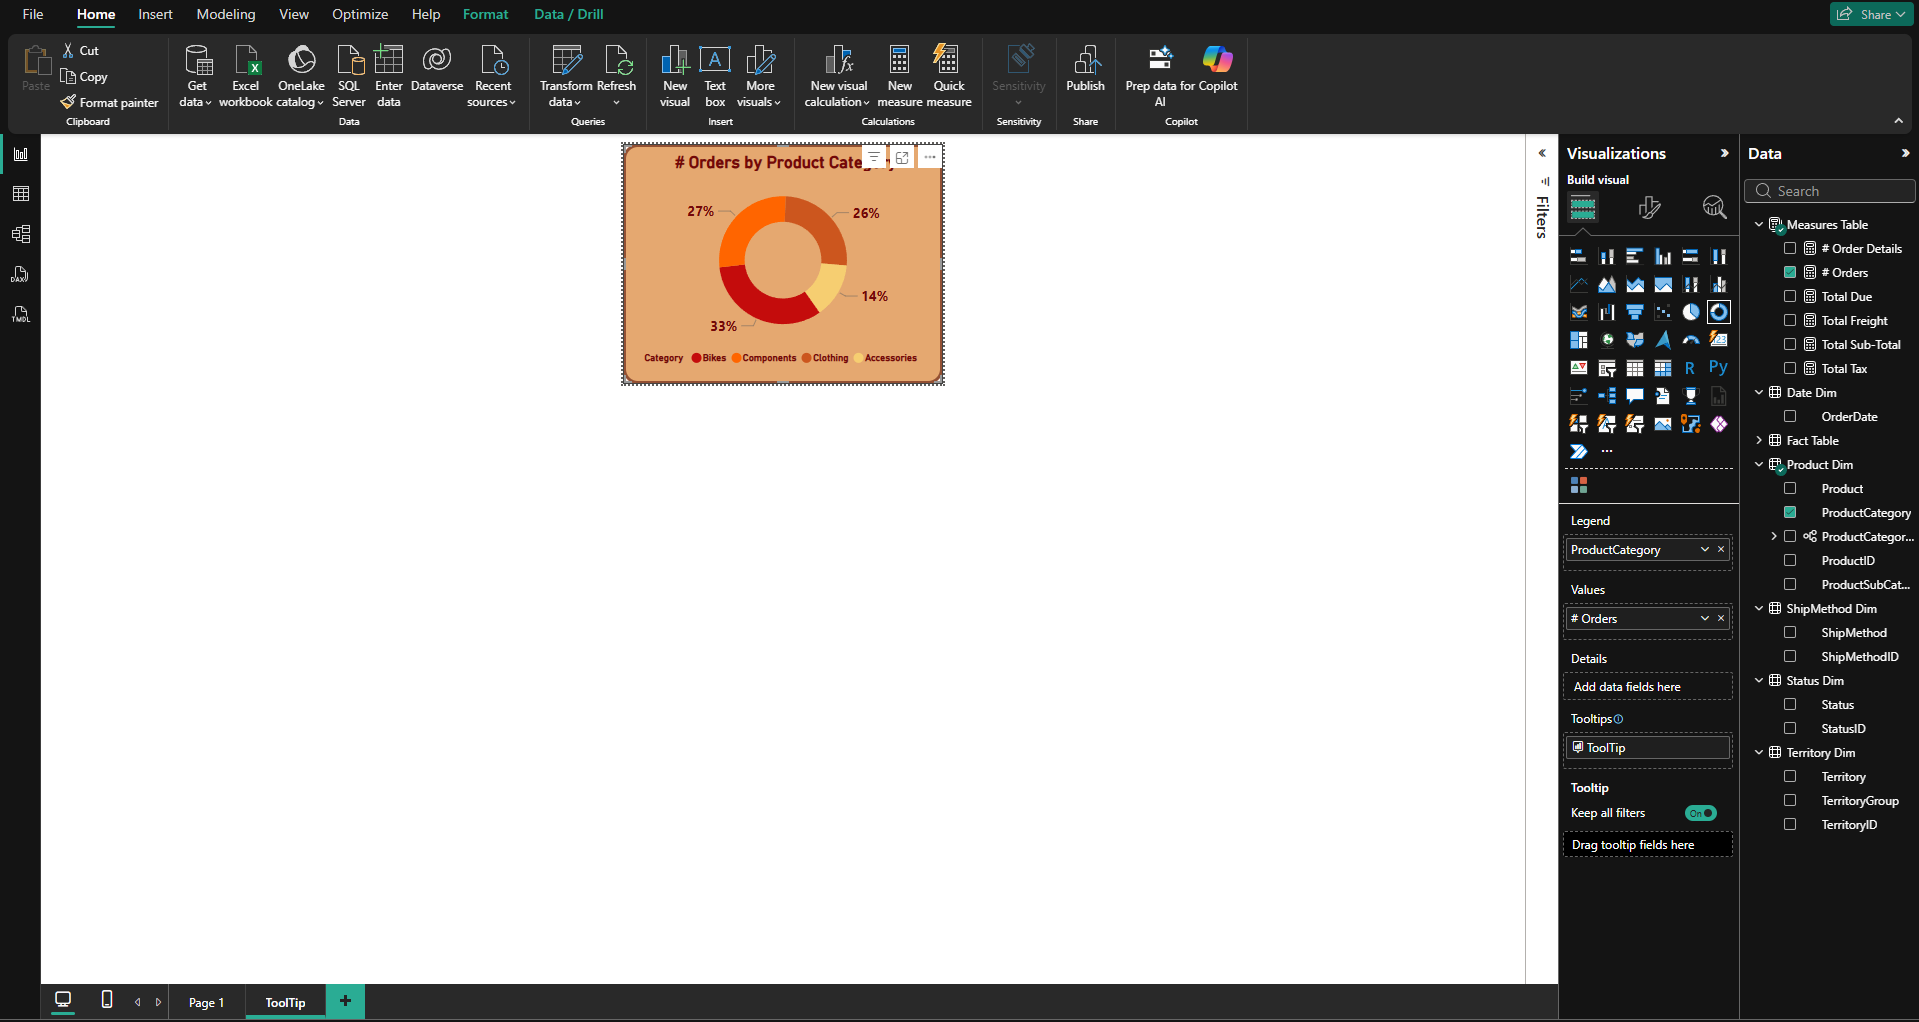

What the dashboard file says about the page in this screenshot:
{"tool":"powerbi","page":{"name":"ToolTip","canvas":[320,240],"ordinal":1},"visuals":[{"type":"donutChart","title":"# Orders by Product Category","fields":{"Category":["Product Dim.ProductCategory"],"Y":["Measures Table.# Orders"]},"box":[0,0,320,240],"z":0}]}

Visuals, with their boxes on the page's 320x240 design canvas (x1, y1, x2, y2). These are canvas units, not pixel positions in the 1919x1022 screenshot, which may show the page scaled, cropped or inside an application window:
"# Orders by Product Category" donutChart: rect(0, 0, 320, 240)
